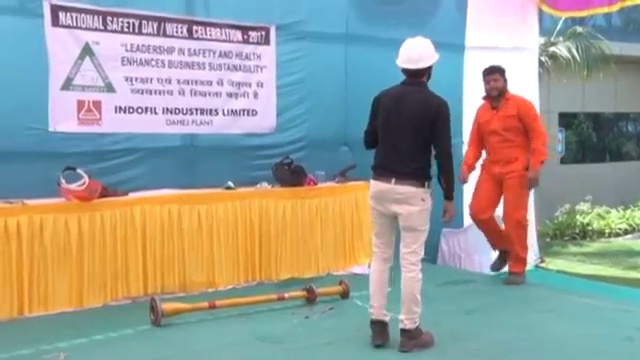helmet: (395, 36, 439, 70)
helmet_off: (480, 64, 508, 100)
helmet_on: (395, 36, 439, 84)
person: (359, 36, 457, 349), (458, 64, 550, 283)
